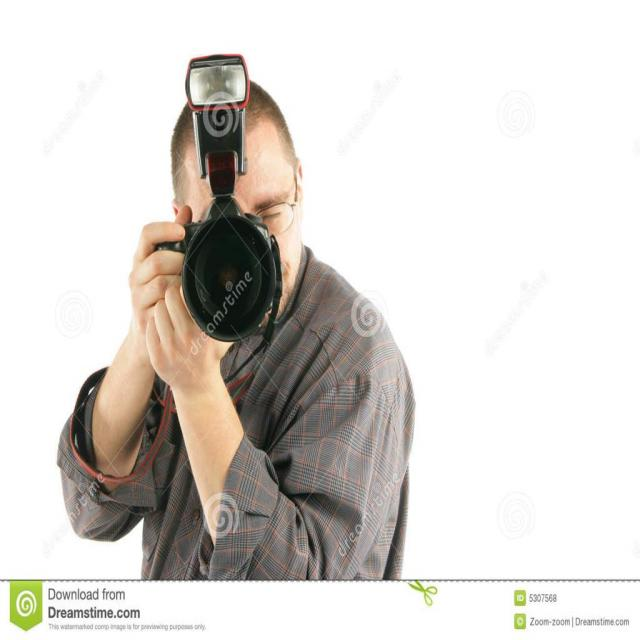nomask: (187, 103, 295, 334)
